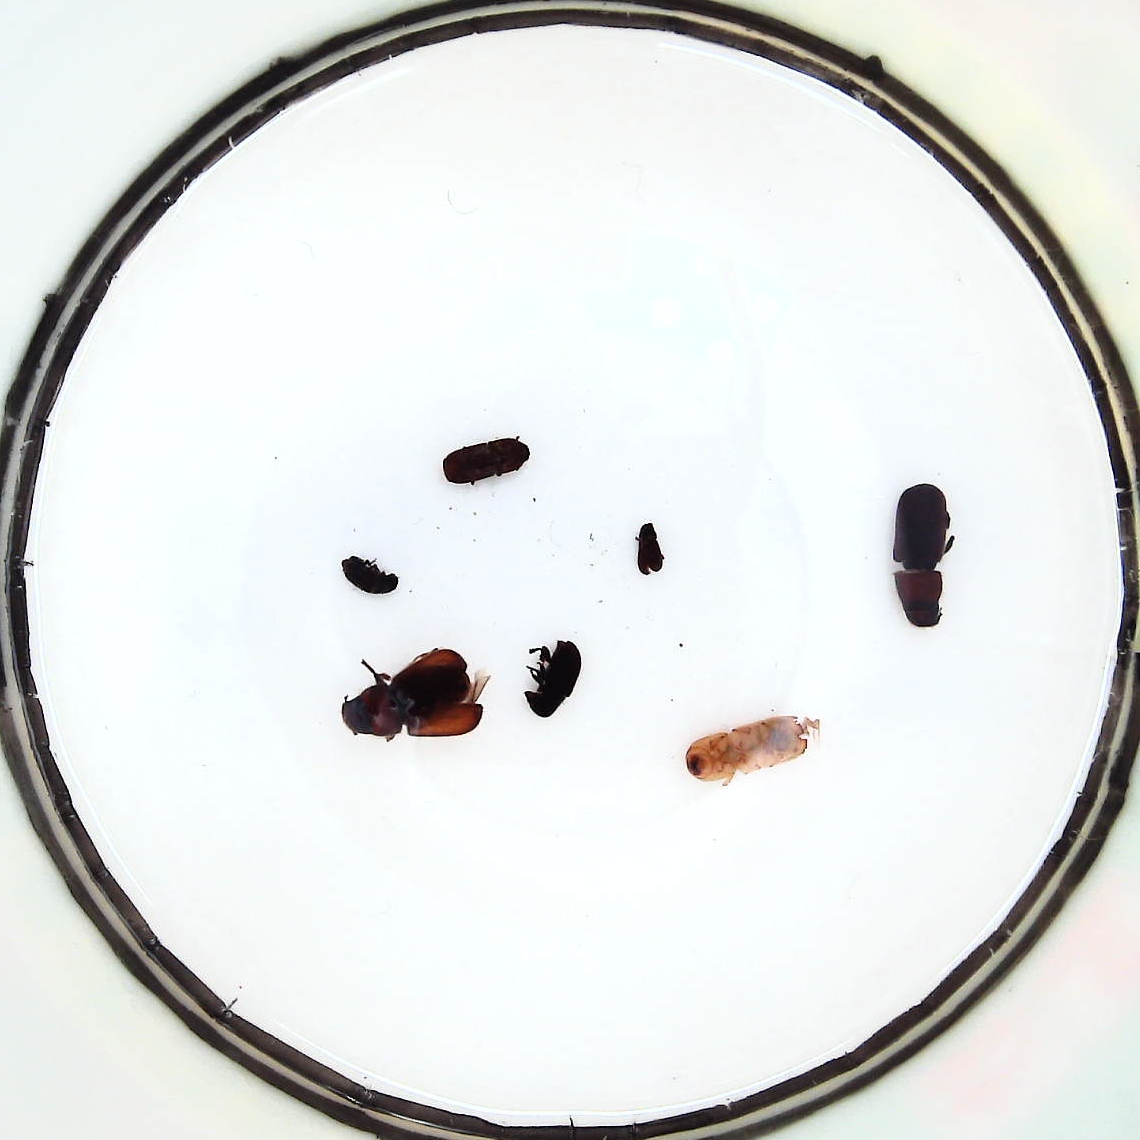Boerner: (686, 717, 820, 786)
Leconte: (341, 648, 490, 737), (892, 484, 954, 626)
acuminatus: (341, 556, 399, 593)
armandi: (525, 640, 580, 718)
coleoptera: (637, 524, 665, 576)
linnaeus: (443, 436, 530, 486)
